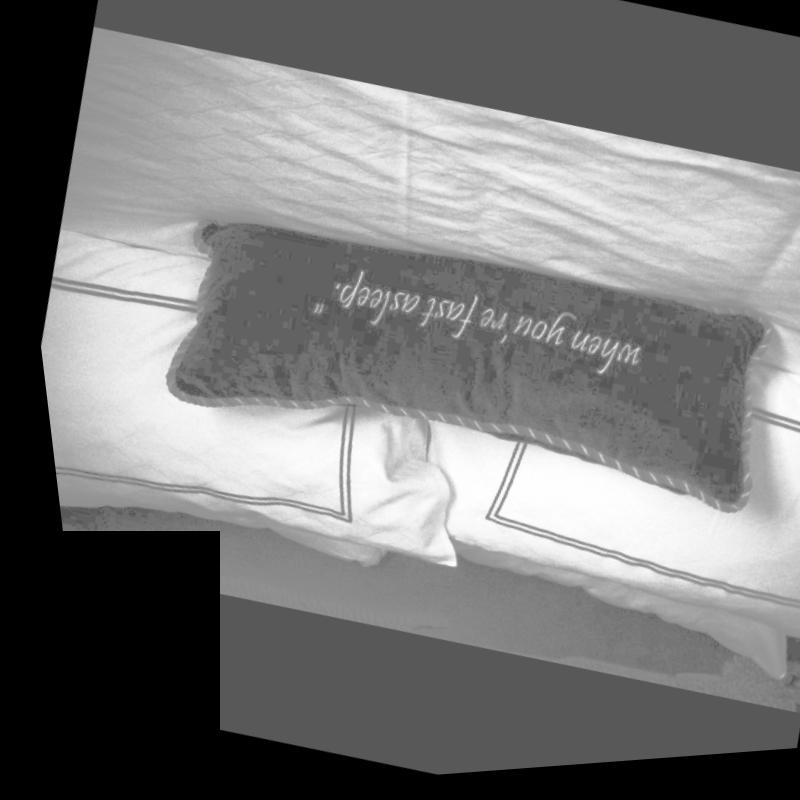pillow: (135, 183, 781, 571), (21, 196, 518, 624), (358, 277, 800, 687), (422, 523, 789, 711), (164, 483, 383, 587)
